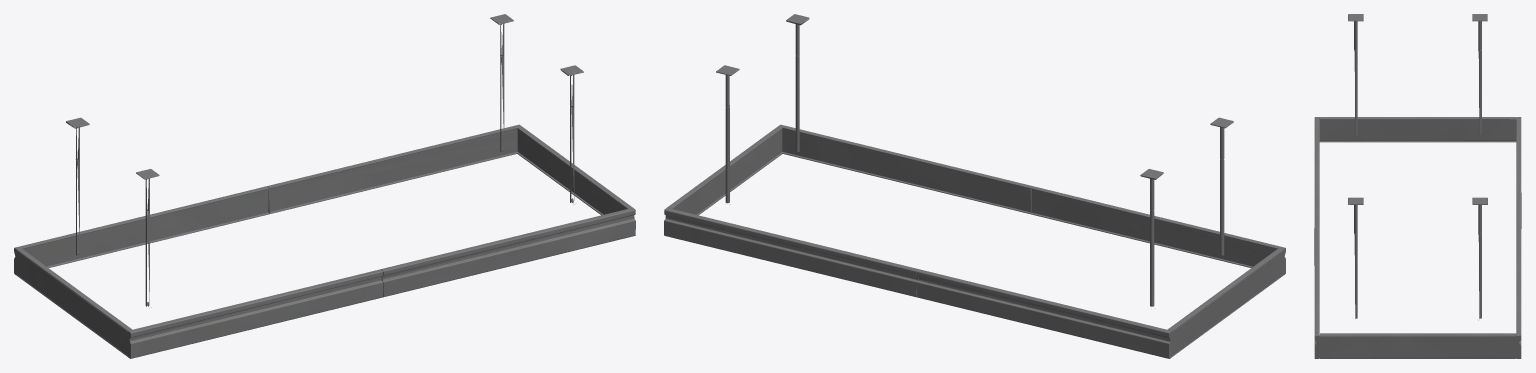
The model's file is lamp_ceiling_1m_rectangle_a01.glb.
3 renders of one model, left to right at view 1: azimuth 30°, elevation 25°; view 2: azimuth 150°, elevation 25°; view 3: azimuth 270°, elevation 25°, orthographic. The views are drawn at different scales.
Parts seen in each view (by area): view 1: geometry_0; view 2: geometry_0; view 3: geometry_0.
Part boxes in pixels (bbox=[...]): geometry_0: bbox=[14, 14, 635, 358]; geometry_0: bbox=[664, 14, 1285, 358]; geometry_0: bbox=[1314, 14, 1521, 358].
Size of the model in its own units: 0.42 by 0.1261 by 0.168.
1 material, 1 textured.
